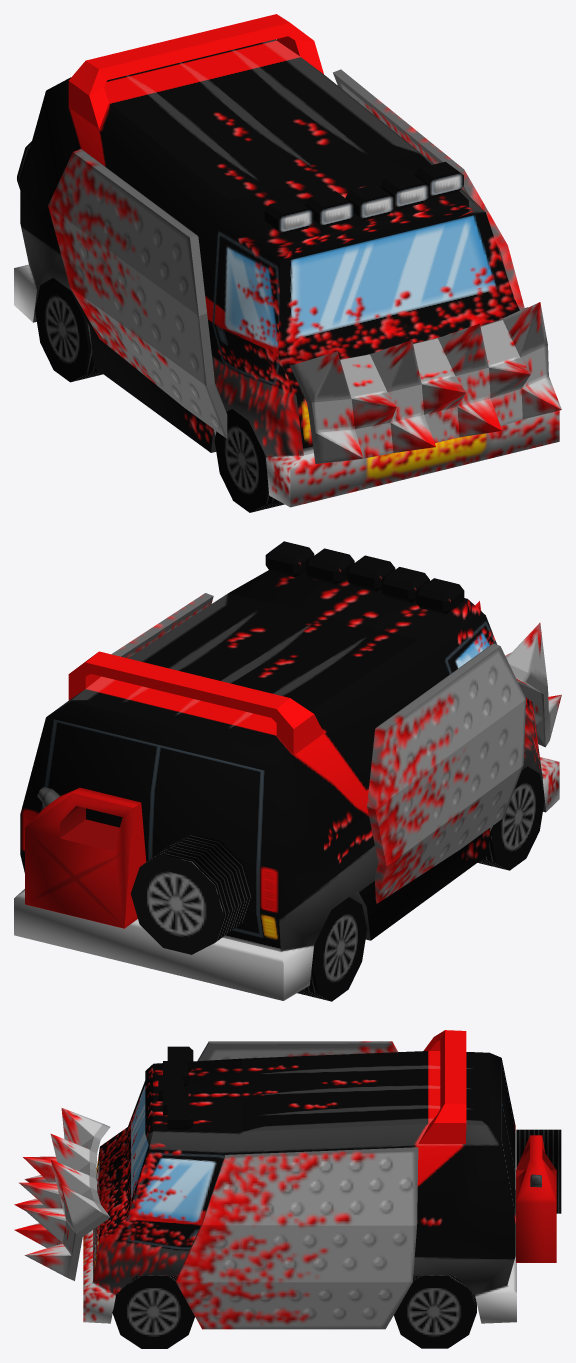
File: ZombieVan.FBX
3 renders of one model, top to bottom at view 1: azimuth 30°, elevation 25°; view 2: azimuth 150°, elevation 25°; view 3: azimuth 270°, elevation 25°, orthographic. The views are drawn at different scales.
Parts seen in each view (by area): view 1: ZombieVan, SideArmor001, GrillSpikes, WheelBR003, WheelFR003, SideArmor; view 2: ZombieVan, SideArmor001, WheelBR003, WheelFR003, GrillSpikes, SideArmor; view 3: ZombieVan, SideArmor, GrillSpikes, WheelBL003, WheelFL003, SideArmor001.
Part boxes in pixels (<box>): ZombieVan: <box>14,14,559,507</box>; SideArmor001: <box>48,149,227,438</box>; GrillSpikes: <box>289,302,561,463</box>; WheelBR003: <box>35,278,102,382</box>; WheelFR003: <box>214,409,284,512</box>; SideArmor: <box>333,69,524,310</box>; ZombieVan: <box>14,541,559,1000</box>; SideArmor001: <box>367,643,525,903</box>; WheelBR003: <box>297,897,366,1001</box>; WheelFR003: <box>477,766,544,870</box>; GrillSpikes: <box>475,601,561,747</box>; SideArmor: <box>111,593,213,658</box>; ZombieVan: <box>83,1030,561,1323</box>; SideArmor: <box>176,1147,418,1329</box>; GrillSpikes: <box>14,1108,110,1280</box>; WheelBL003: <box>394,1275,476,1348</box>; WheelFL003: <box>112,1275,194,1348</box>; SideArmor001: <box>197,1041,397,1060</box>.
Bounding box in the file's own units: 25.65 × 21.85 × 47.41.
Materials: 1 (1 with a texture image).
